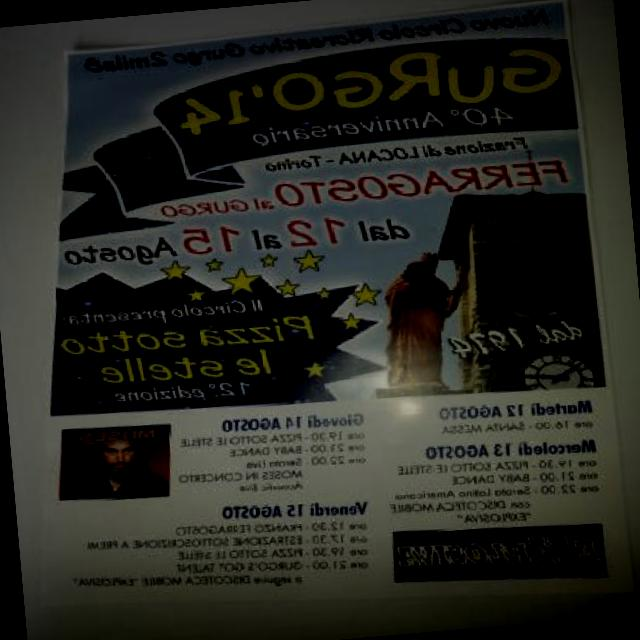Person: (376, 249, 476, 387), (68, 425, 158, 509)
